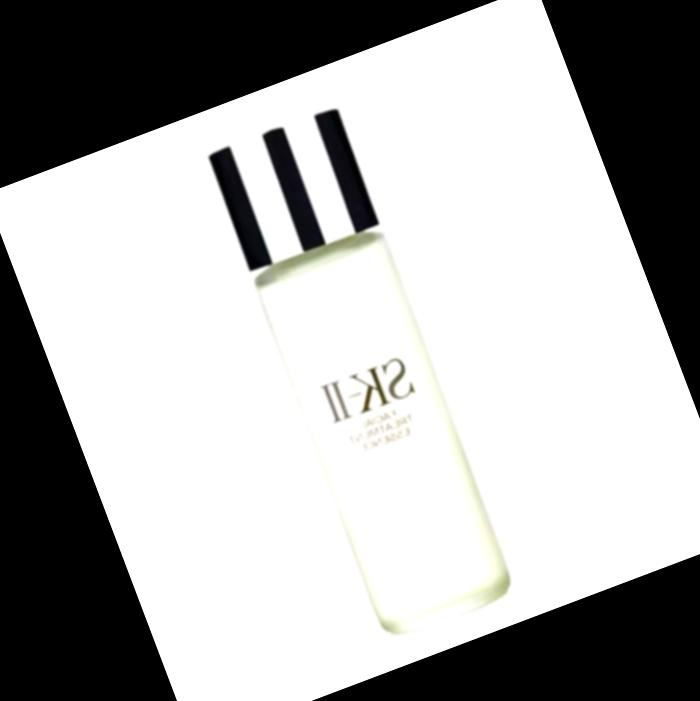cosmetic: (198, 107, 523, 647)
